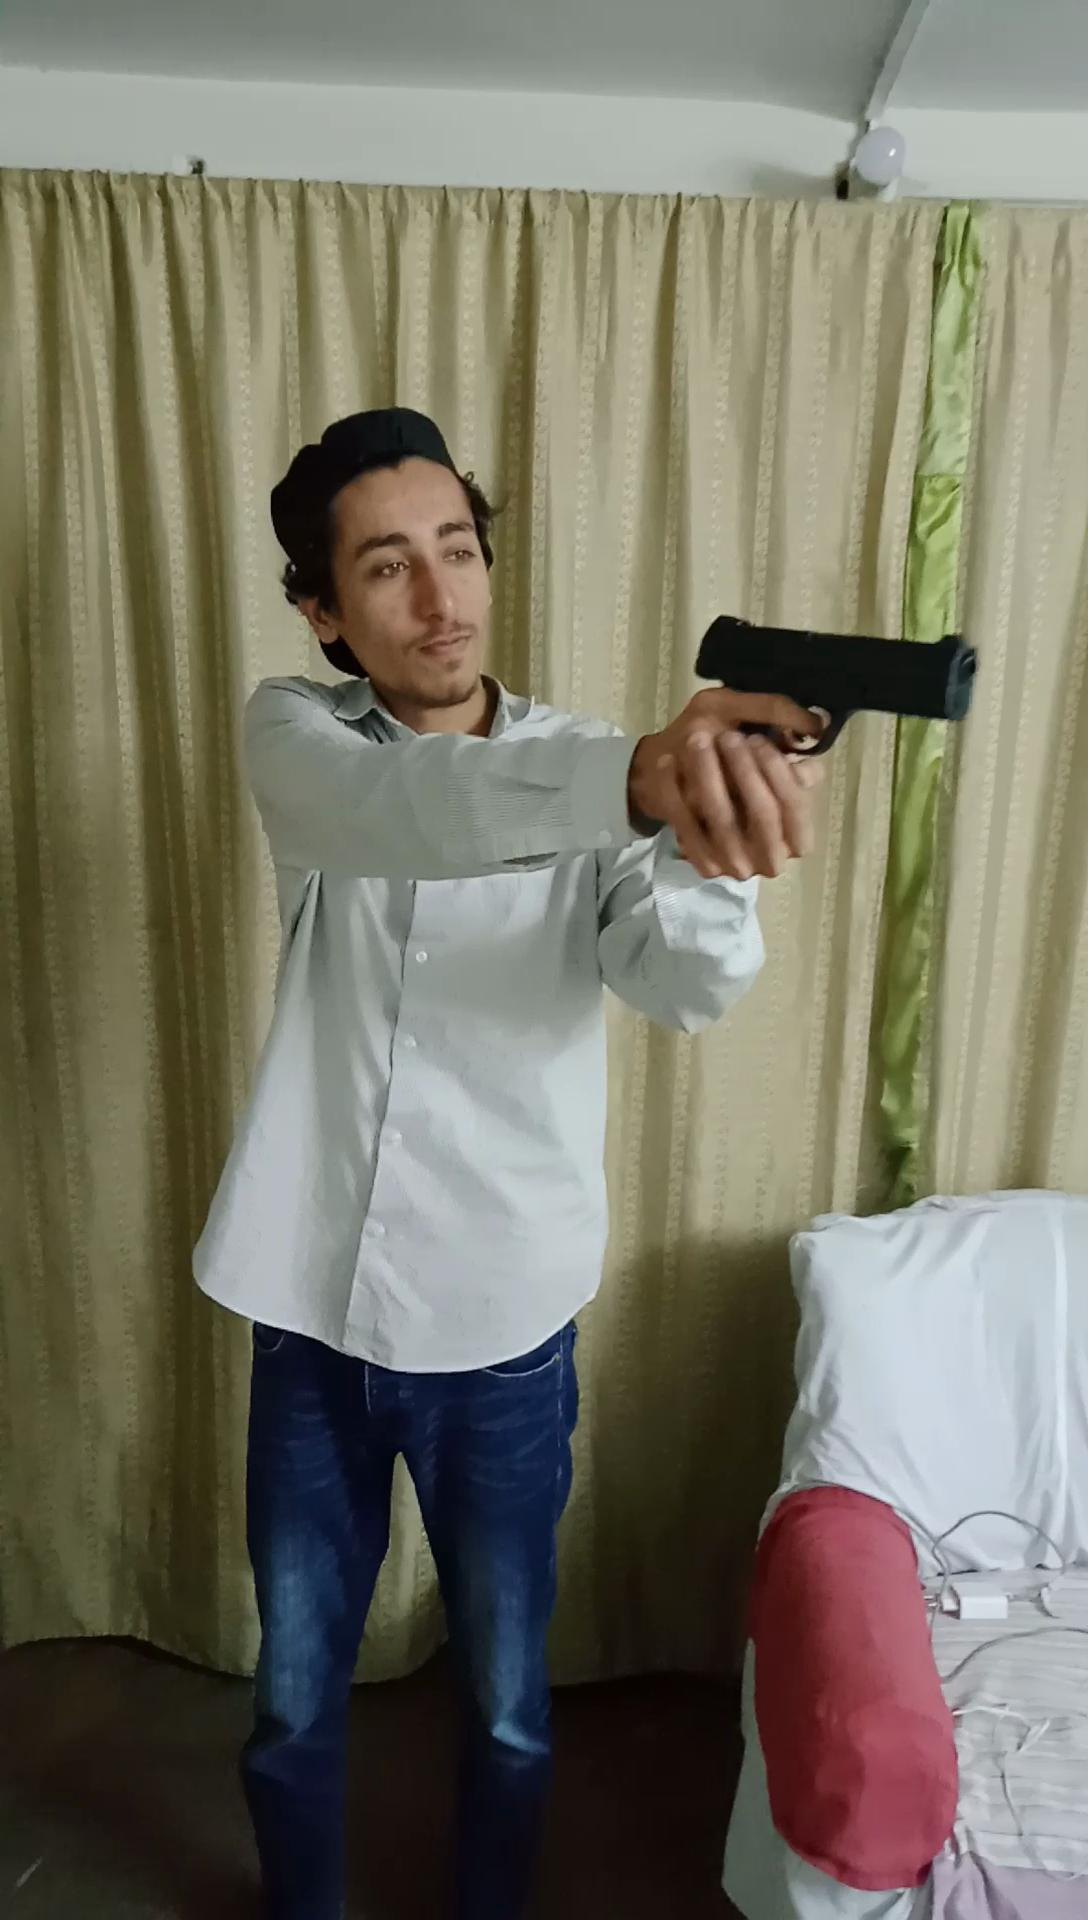criminal: (181, 406, 990, 1920)
weapon: (691, 611, 990, 775)
